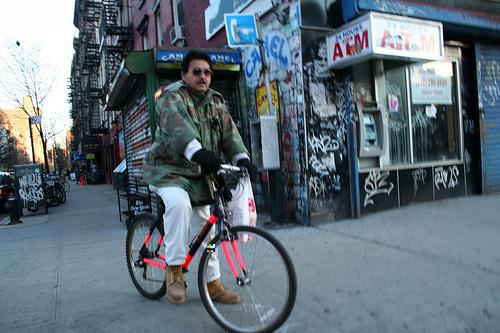car: (125, 164, 298, 333)
person: (149, 52, 259, 307)
